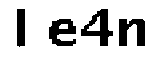4: (81, 3, 112, 50)
e: (45, 17, 78, 48)
l: (12, 5, 32, 52)
n: (117, 15, 147, 52)
